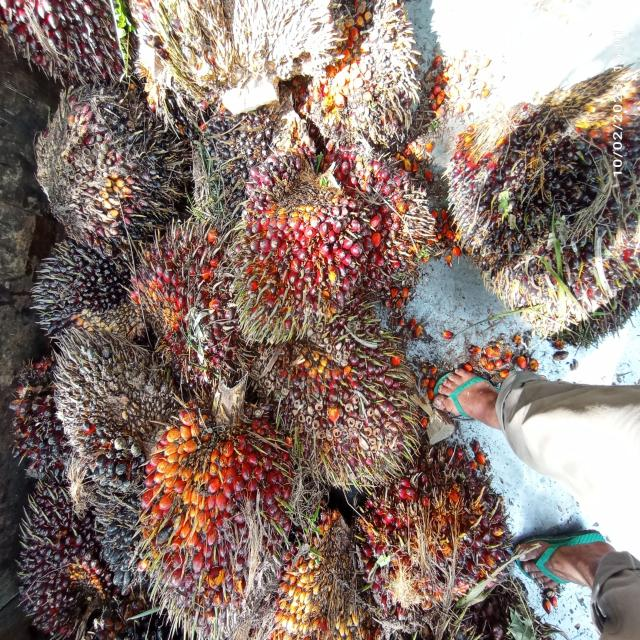fraksi 00: (445, 58, 640, 356), (26, 89, 168, 243), (47, 334, 163, 496), (11, 471, 107, 640), (14, 230, 130, 346), (6, 354, 80, 502), (193, 101, 274, 226), (90, 479, 160, 609)
fraksi 1: (354, 425, 520, 624), (273, 328, 451, 511)
fraksi 3: (138, 378, 286, 636), (221, 136, 377, 350), (121, 206, 261, 396)
